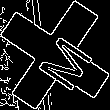M_NW: (21, 22, 89, 88)
